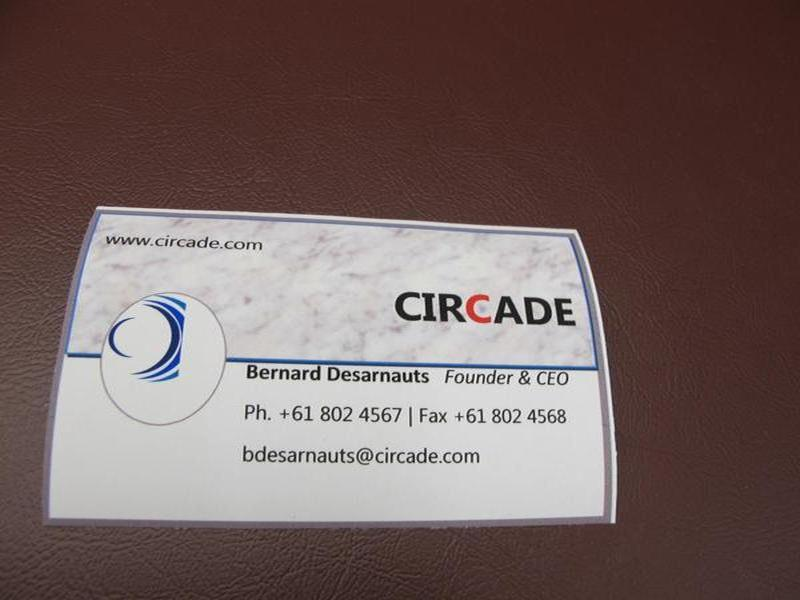card: (41, 191, 628, 541)
